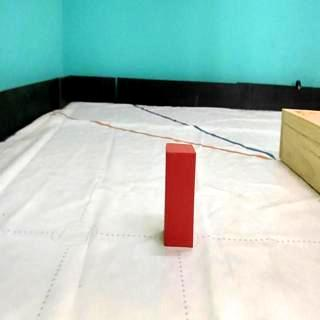redbox: (164, 144, 196, 247)
